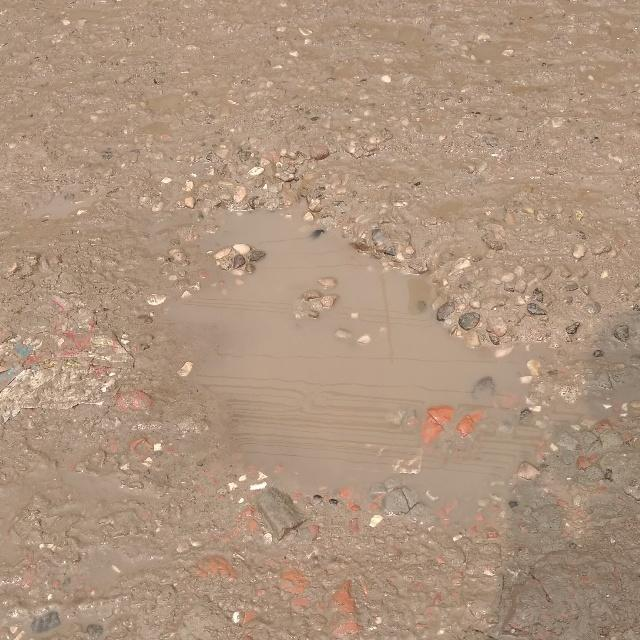Surface Erosion: (62, 100, 640, 564)
